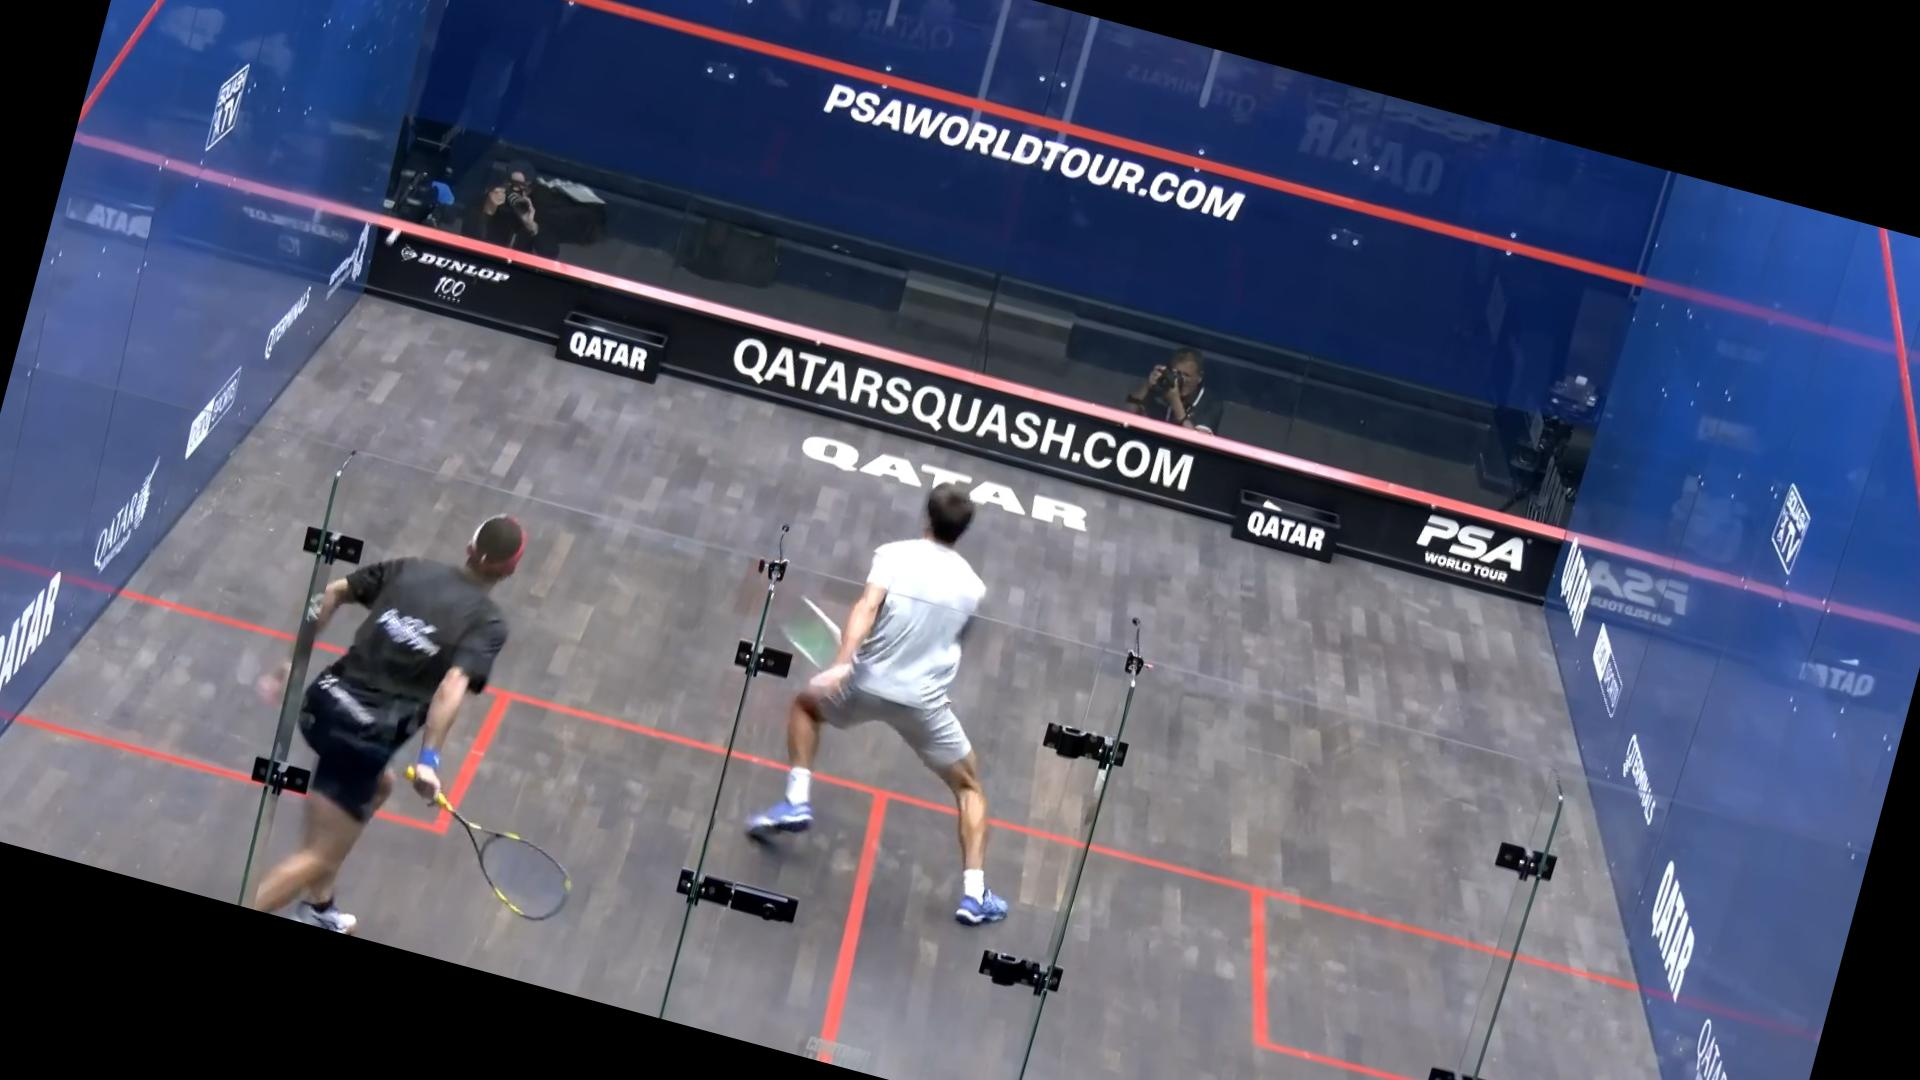Racket: (414, 782, 599, 943)
